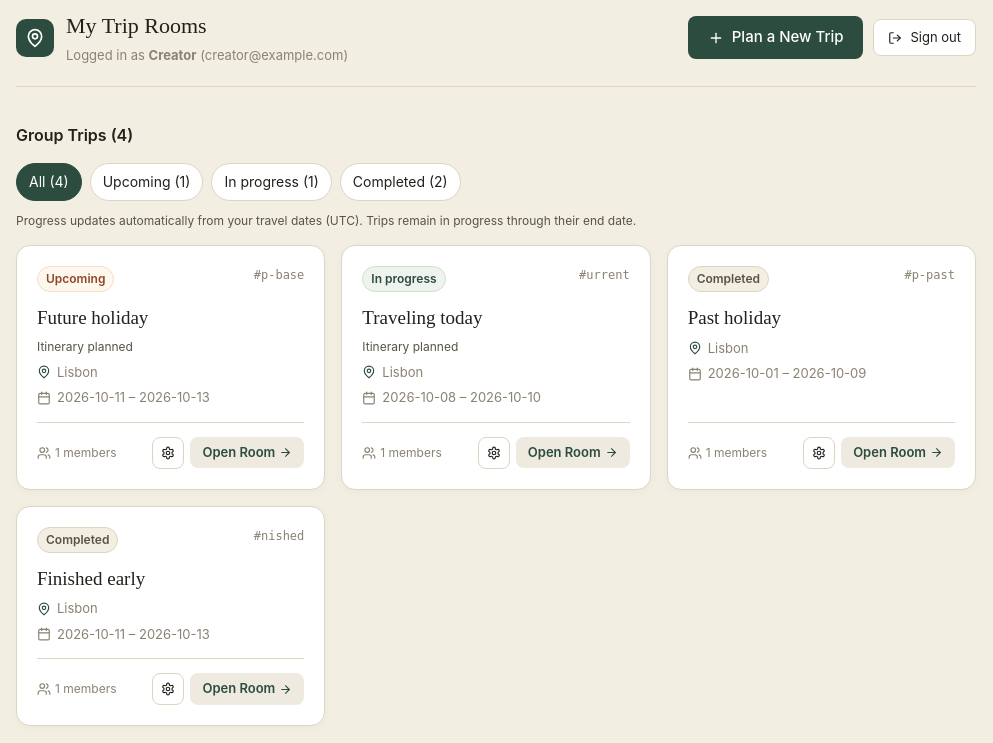
trip dashboard progress › automatically moves trips into completed at midnight while the page is open
Click the button "Completed (2)" at {"x": 400, "y": 182}, box [340,163,461,201]
Wait 1000 ms
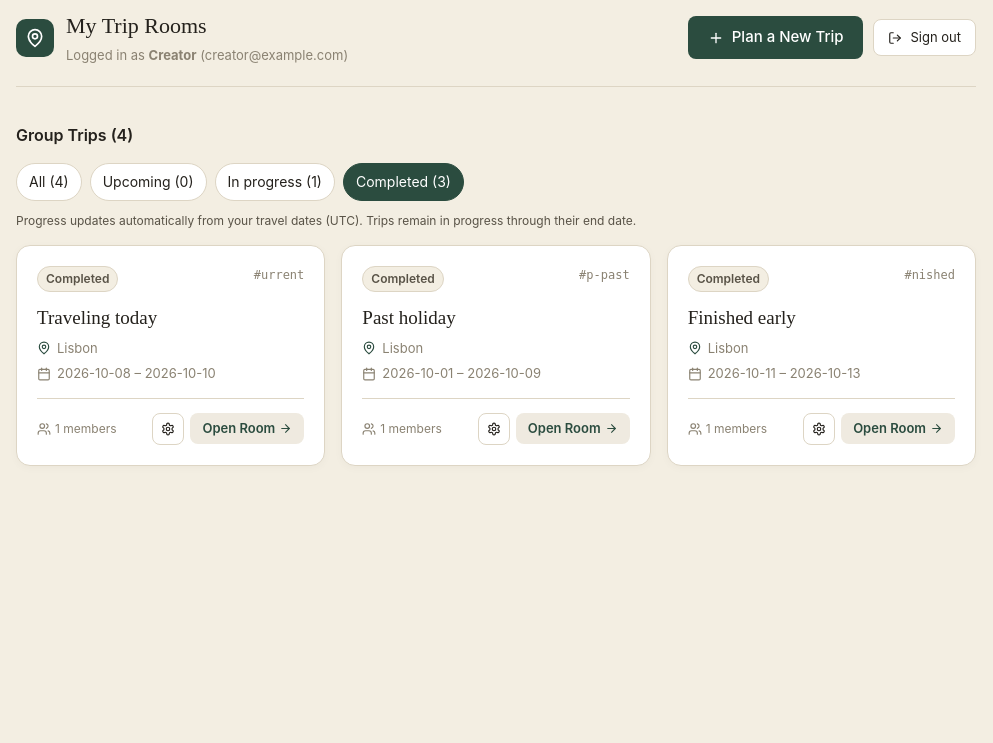
expect the button "Completed (3)" is shown: met, box [343,163,464,201]
expect the element "Traveling today" is shown: met, box [16,245,325,466]
